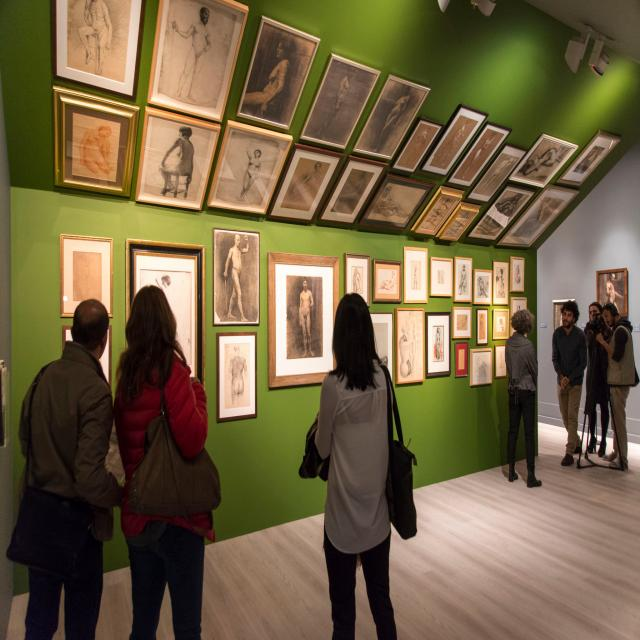Tablo: (149, 0, 247, 121), (239, 19, 318, 128), (137, 113, 219, 209), (136, 254, 196, 380), (209, 126, 291, 213), (301, 58, 378, 148), (275, 263, 334, 377), (354, 77, 428, 159), (63, 102, 130, 190), (269, 147, 342, 222), (420, 106, 487, 176), (499, 186, 577, 246), (214, 228, 259, 324), (320, 159, 385, 224), (447, 123, 511, 187), (359, 176, 434, 229), (466, 185, 536, 241), (63, 238, 111, 314), (467, 144, 527, 203), (218, 334, 256, 419), (560, 132, 620, 185), (511, 137, 575, 186), (391, 119, 443, 173), (415, 193, 462, 235), (397, 310, 424, 382), (428, 314, 449, 373), (598, 270, 626, 314), (440, 209, 478, 240), (405, 249, 427, 301), (347, 257, 368, 303), (375, 263, 400, 300), (431, 258, 452, 295), (455, 258, 472, 301), (472, 351, 491, 385), (493, 261, 508, 304), (554, 302, 573, 333), (512, 299, 526, 340), (475, 271, 492, 303), (454, 309, 471, 337), (494, 310, 509, 338), (456, 343, 468, 376), (512, 258, 524, 291), (477, 309, 488, 344), (495, 345, 507, 377)
